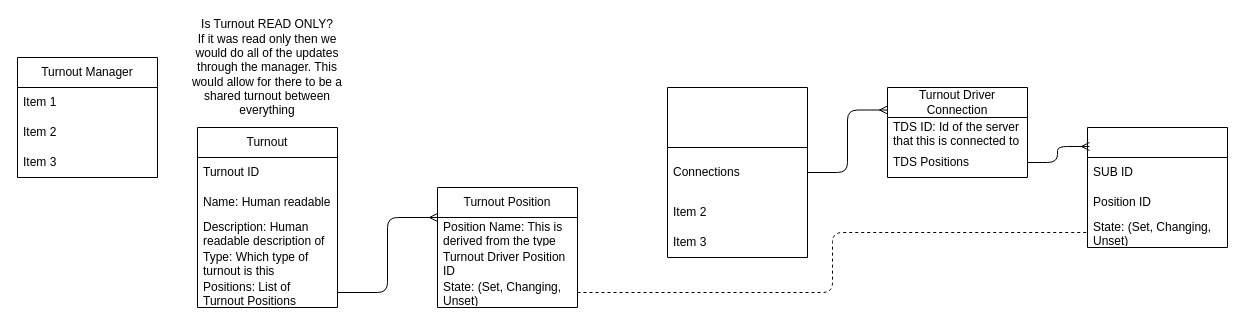
The diagram is 1245 pixels wide and 325 high, and some of its shapes have lost their labels. The box of each missing label's shape, as (x1, y1, x2, y2) in pixels:
TDS Position: (1086, 126, 1228, 248)
TDSCManager Manages connections to multiple TDS: (666, 86, 808, 258)
